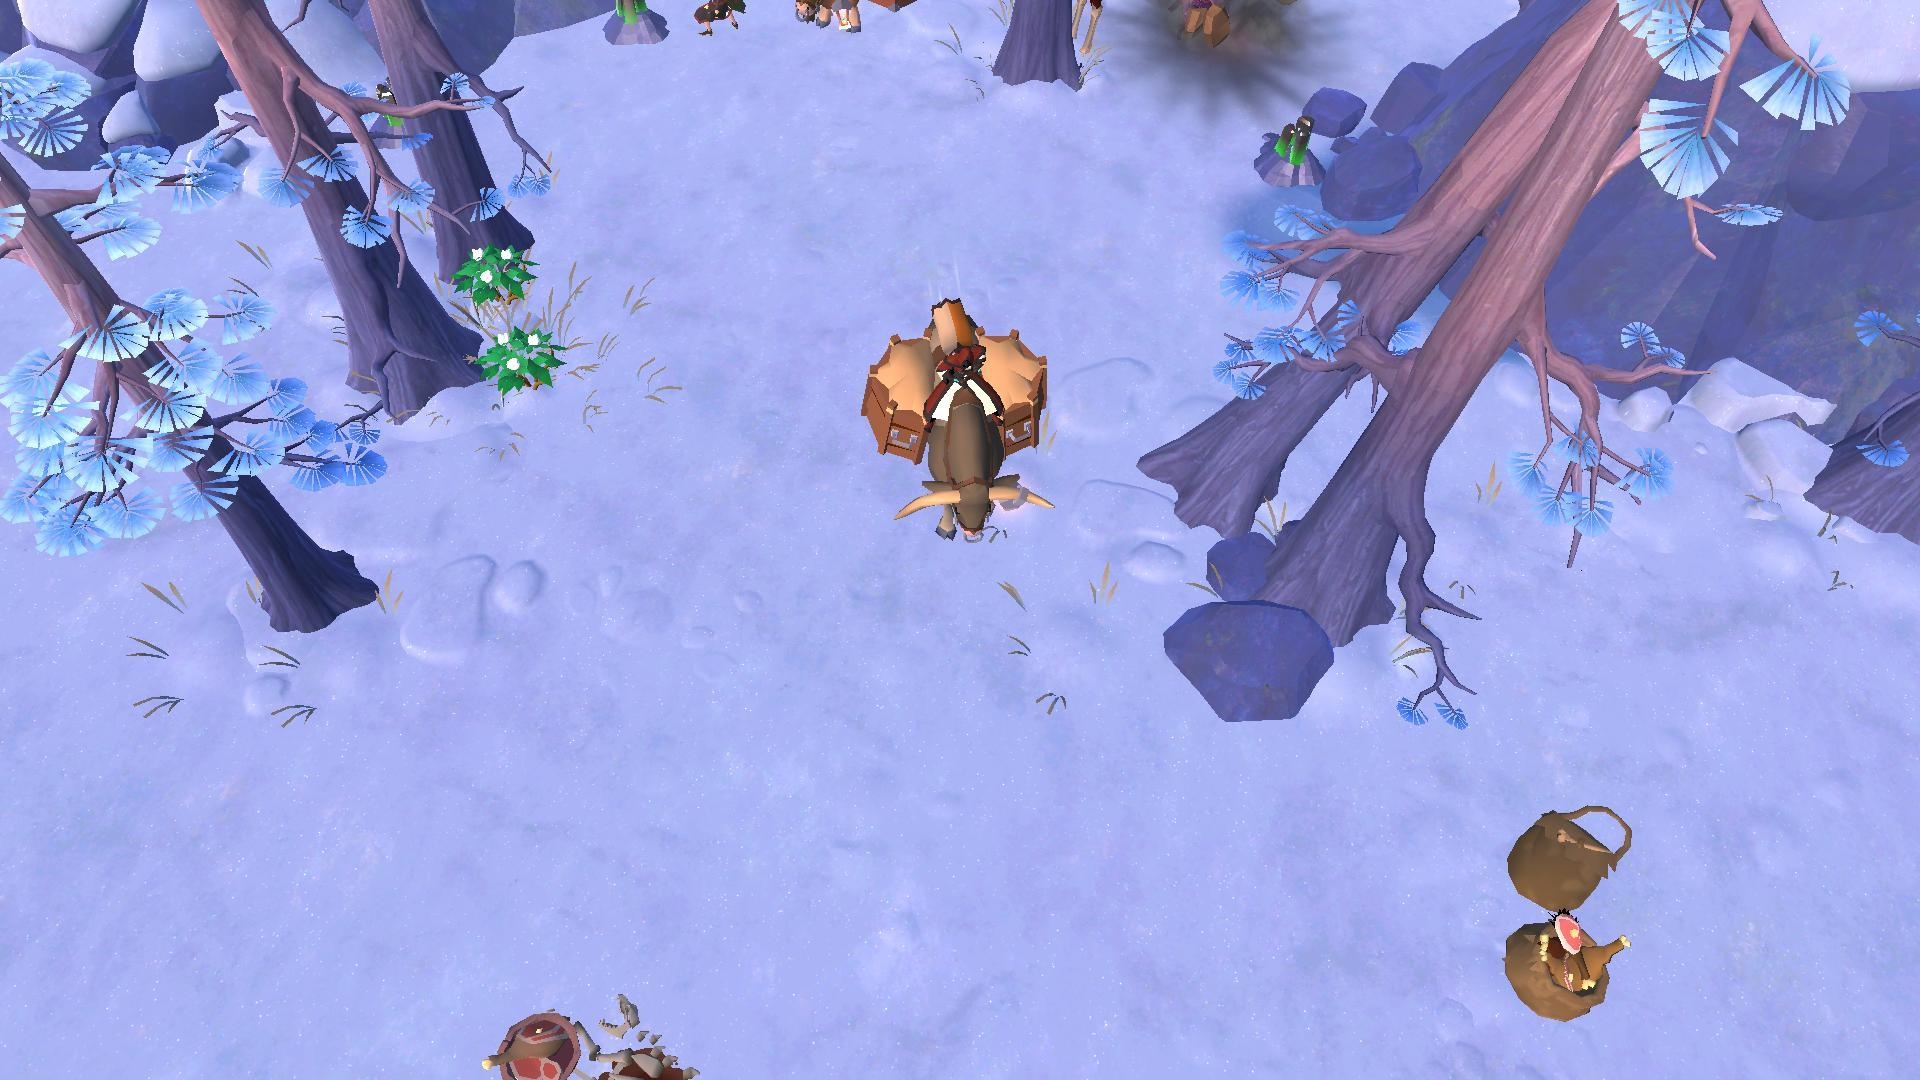fiber_t3: (475, 318, 568, 405), (459, 240, 534, 307)
ore_t3: (1269, 117, 1319, 169), (612, 0, 647, 28)
